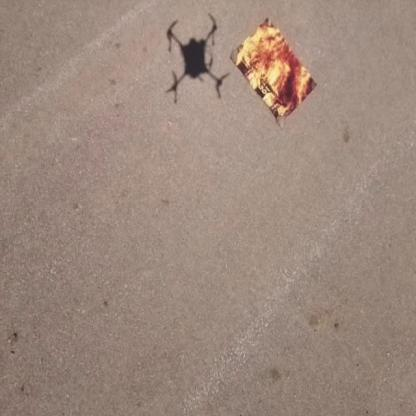fire-poster: (229, 16, 318, 128)
